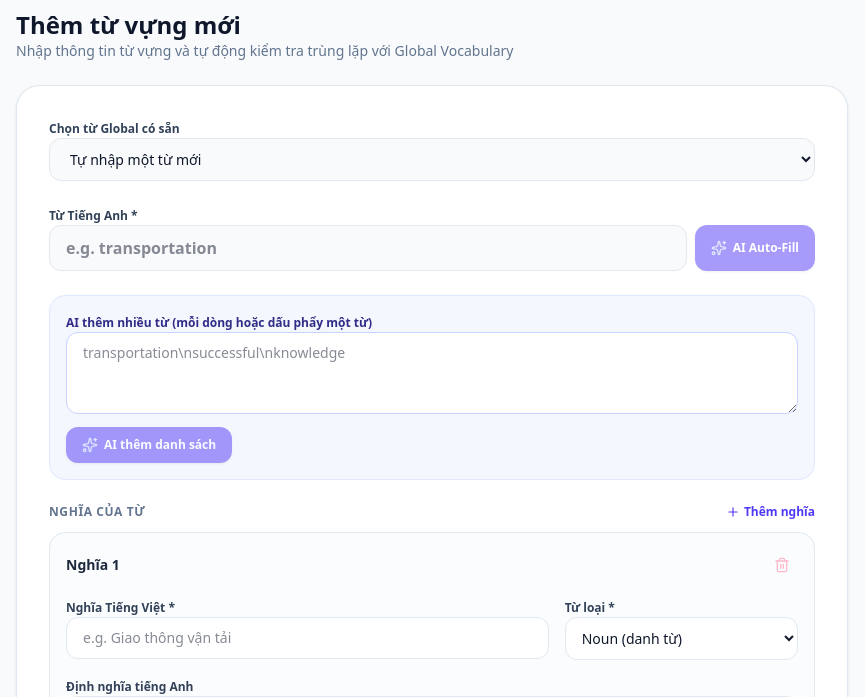
Test case: AddWordModal Gemini Auto-Fill › updates the visible word to the canonical headword after AI Auto-Fill
Type "abandoned" into the field with placeholder "e.g. transportation".
click(368, 248); type("abandoned")  # box left=49, top=225, right=687, bottom=271
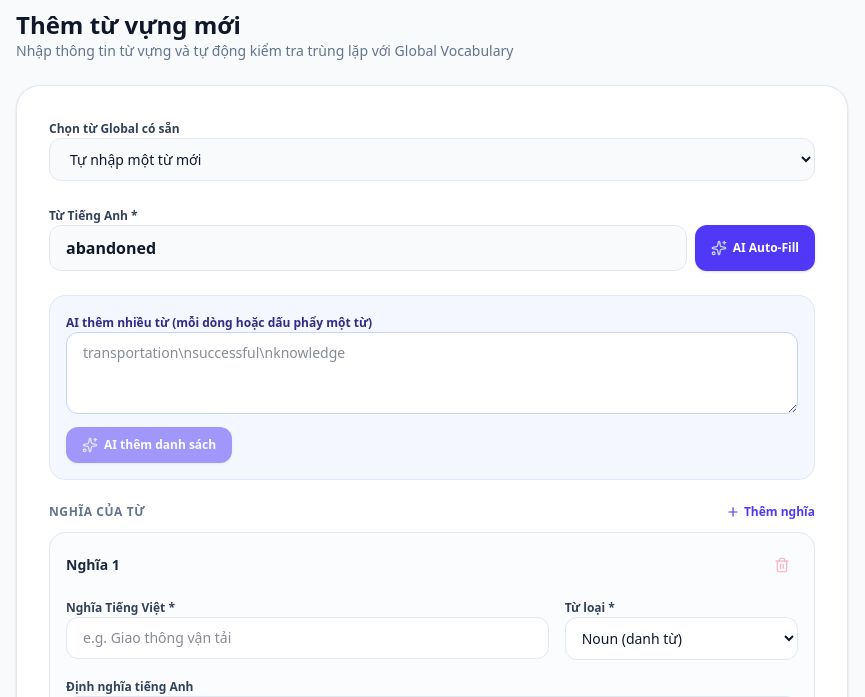
Click the button "AI Auto-Fill".
click(755, 248)  # box left=695, top=225, right=815, bottom=271
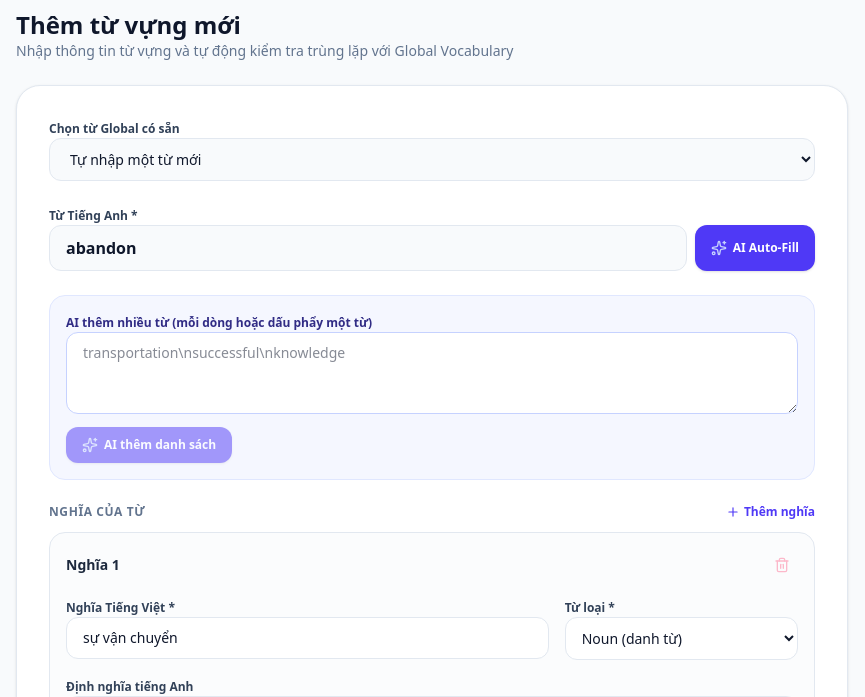
expect the field with placeholder "e.g. transportation" holds "abandon": met, box left=49, top=225, right=687, bottom=271
